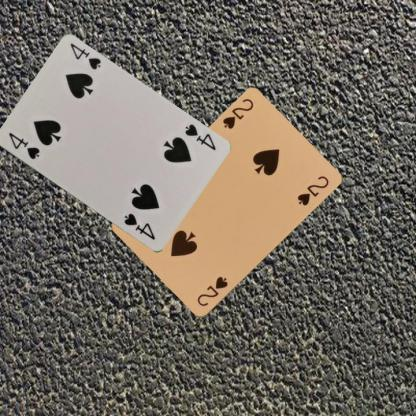2s: (219, 96, 254, 131), (194, 274, 230, 308)
4s: (182, 121, 218, 152), (6, 130, 41, 160)
